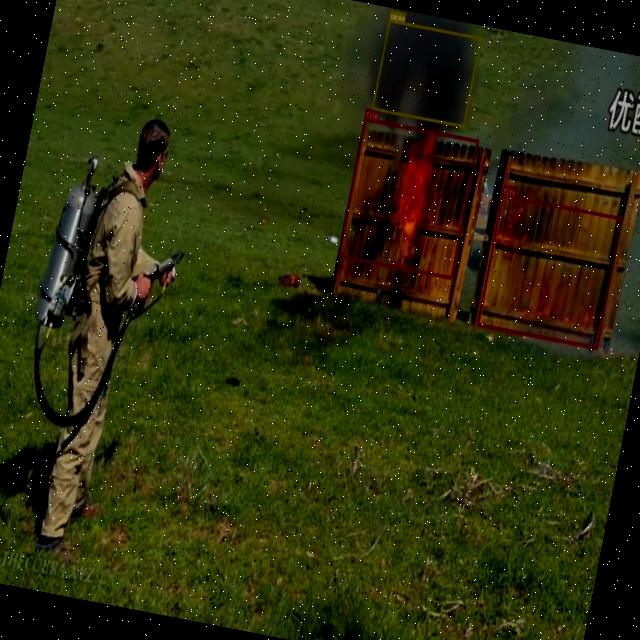fire: (338, 118, 478, 279), (477, 194, 622, 348)
smoke: (372, 19, 482, 128)
